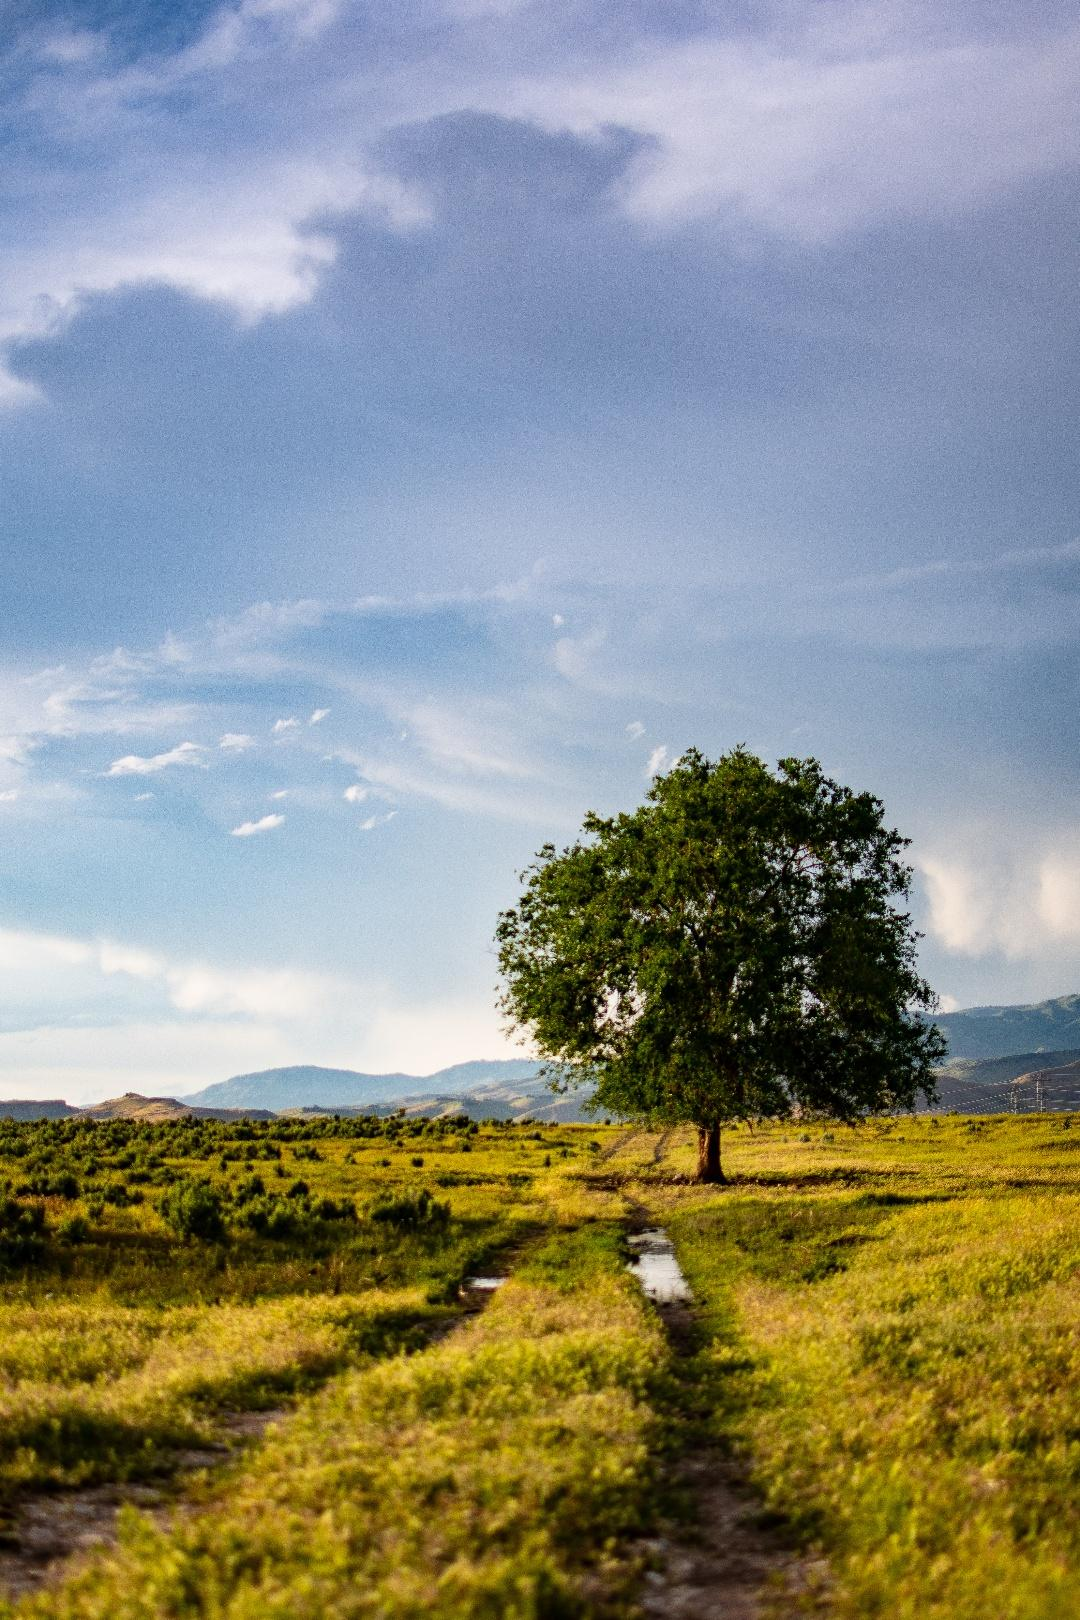paper: (350, 1425, 861, 1620)
